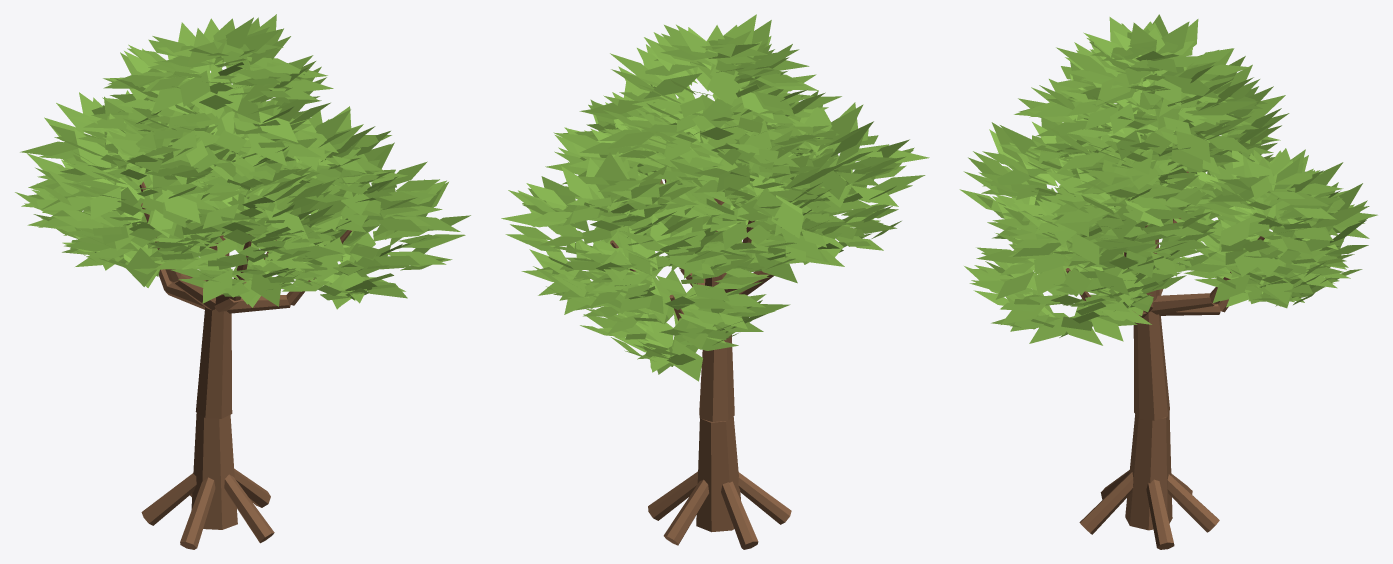
The model's file is Tree_44.glb.
3 views of the same model, side by side, from view 1: azimuth 30°, elevation 25°; view 2: azimuth 150°, elevation 25°; view 3: azimuth 270°, elevation 25° (orthographic).
Visible parts, largest first — view 1: Tree_44; view 2: Tree_44; view 3: Tree_44.
Boxes of the visible parts, bbox=[...] form: Tree_44: bbox=[15, 14, 470, 549]; Tree_44: bbox=[501, 14, 929, 549]; Tree_44: bbox=[959, 14, 1377, 549].
Bounding box in the file's own units: 4.72 × 5.9 × 4.55.
